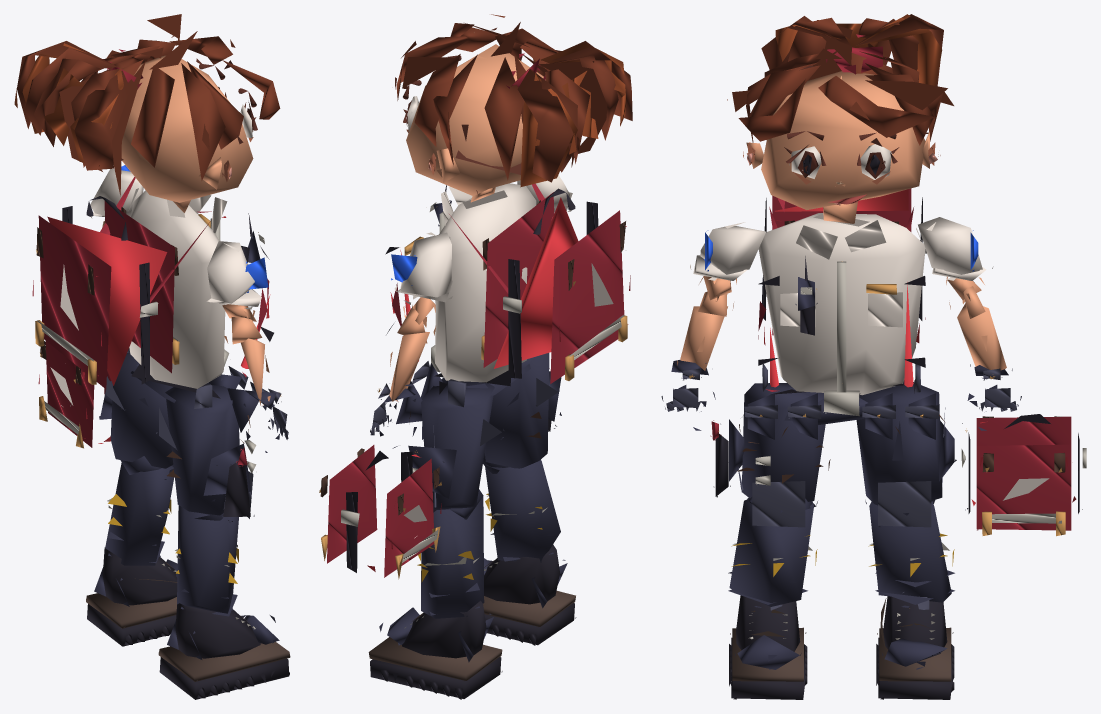
The picture shows the model from 3 angles, left to right: view 1: azimuth 30°, elevation 25°; view 2: azimuth 150°, elevation 25°; view 3: azimuth 270°, elevation 25°; orthographic projection.
Visible parts, largest first — view 1: torso, head, legR, footR, footL, shinR, shinL, legL, handL, armR, hip, foreArmR (+1 smaller); view 2: torso, head, handL, footL, legL, footR, shinL, shinR, legR, armL, hip, foreArmL (+1 smaller); view 3: head, torso, handL, legR, legL, footL, footR, shinR, hip, shinL, armL, armR (+3 smaller).
Part boxes in pixels (<box>): torso: <box>32,177,273,389</box>; head: <box>14,14,280,212</box>; legR: <box>156,382,256,522</box>; footR: <box>158,603,290,699</box>; footL: <box>86,547,177,646</box>; shinR: <box>175,505,238,616</box>; shinL: <box>105,456,174,565</box>; legL: <box>99,352,173,468</box>; handL: <box>38,341,111,448</box>; armR: <box>206,241,268,321</box>; hip: <box>127,348,268,443</box>; foreArmR: <box>224,317,281,409</box>; torso: <box>385,183,630,383</box>; head: <box>395,14,632,202</box>; handL: <box>319,403,441,579</box>; footL: <box>368,600,502,699</box>; legL: <box>408,379,504,510</box>; footR: <box>483,544,576,645</box>; shinL: <box>417,489,484,618</box>; shinR: <box>483,453,560,562</box>; legR: <box>484,353,561,468</box>; armL: <box>391,232,452,324</box>; hip: <box>396,345,530,424</box>; foreArmL: <box>377,308,435,406</box>; head: <box>727,14,953,223</box>; torso: <box>758,188,926,395</box>; handL: <box>961,385,1086,536</box>; legR: <box>710,383,830,527</box>; legL: <box>856,380,967,527</box>; footL: <box>876,592,954,699</box>; footR: <box>729,595,807,699</box>; shinR: <box>728,497,817,607</box>; hip: <box>739,364,945,443</box>; shinL: <box>865,500,954,607</box>; armL: <box>916,217,993,300</box>; armR: <box>690,222,765,301</box>.
Size of the model in its own units: 0.4694 by 1.43 by 0.8692.
